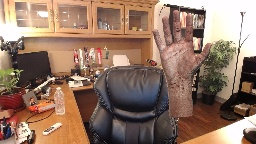Mano_aperta: (149, 9, 212, 83)
